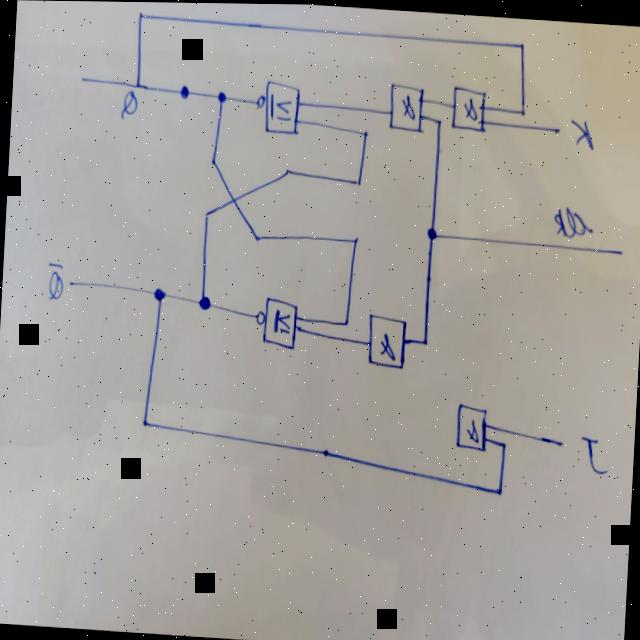crossover: (227, 189, 240, 206)
junction: (150, 281, 170, 304), (196, 289, 214, 310), (177, 81, 192, 100), (215, 87, 229, 104), (138, 413, 152, 430), (135, 6, 148, 23), (426, 222, 438, 240), (208, 152, 220, 168), (516, 36, 528, 51), (516, 103, 528, 118), (132, 75, 144, 90), (494, 480, 505, 495), (352, 173, 363, 188), (201, 204, 212, 219), (420, 331, 431, 345), (350, 231, 361, 244), (252, 229, 262, 242), (342, 314, 352, 326), (360, 125, 370, 137), (434, 114, 444, 126), (284, 163, 292, 175), (499, 437, 508, 447)
terminal: (552, 433, 570, 451), (76, 70, 92, 86), (614, 242, 628, 257), (65, 274, 78, 289), (552, 119, 564, 135)
text: (552, 201, 596, 238), (578, 433, 610, 473), (568, 113, 598, 150), (45, 259, 66, 300), (118, 87, 140, 118)
